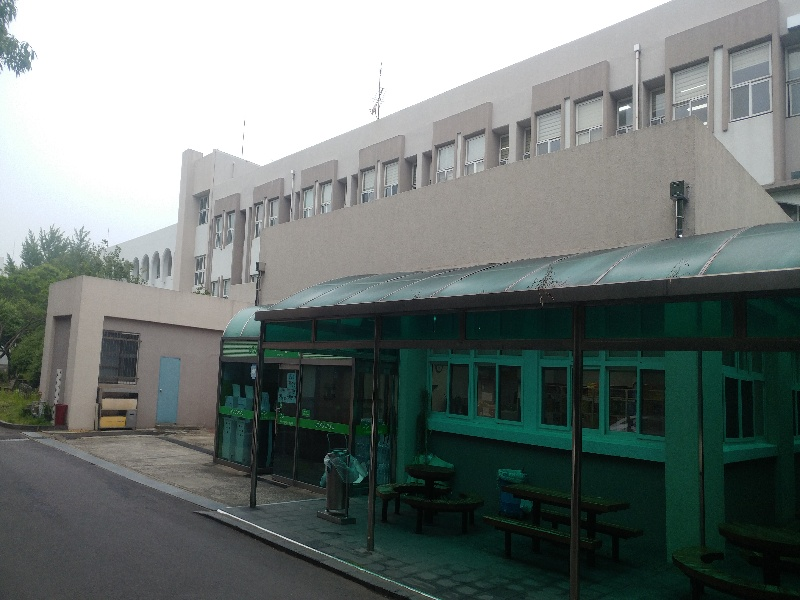Ara Hall: (259, 229, 799, 542), (229, 301, 390, 490)
Main Building: (176, 31, 800, 223)
